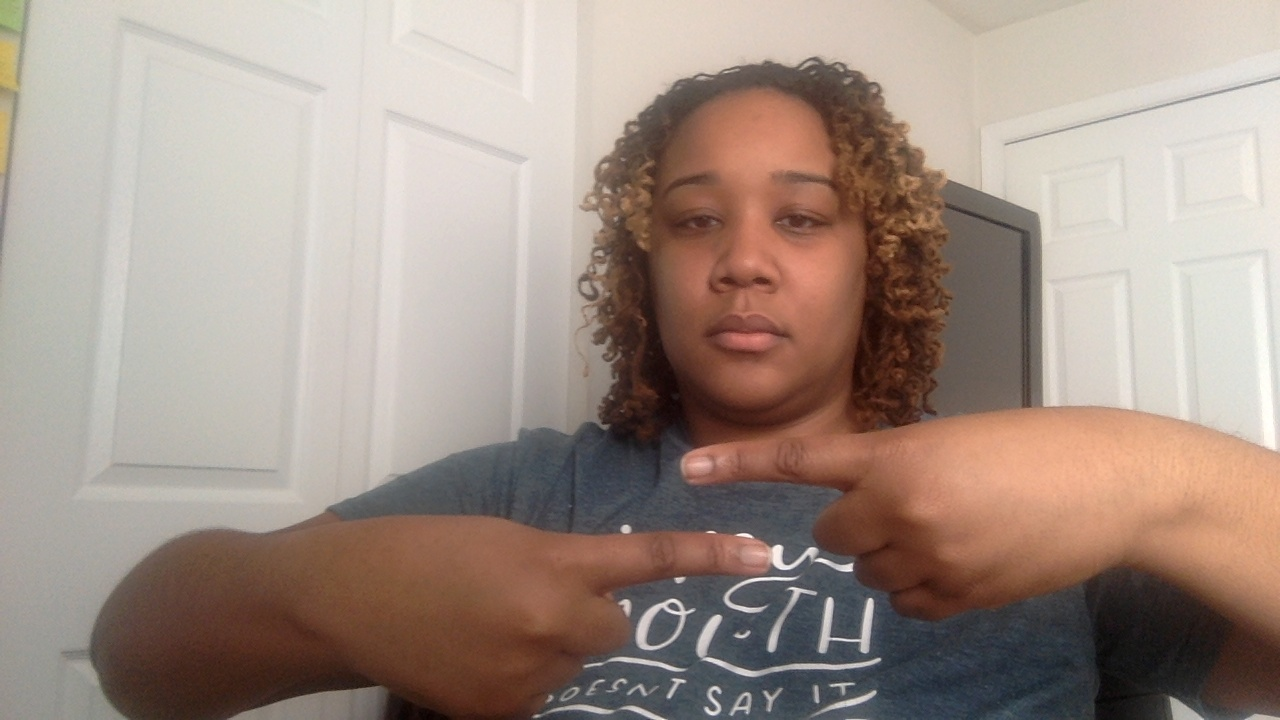go: (90, 403, 1280, 716)
